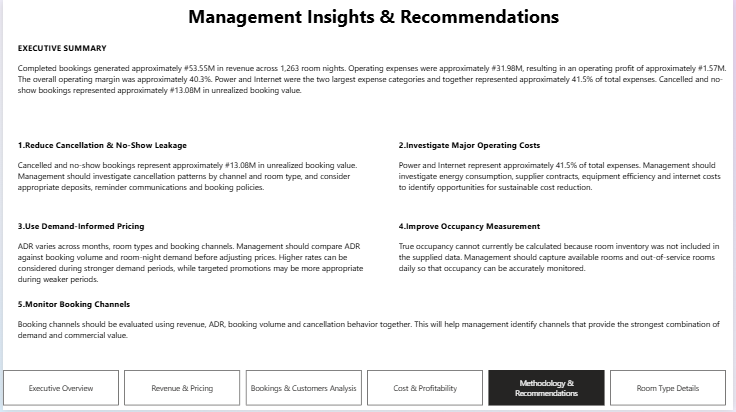

This screenshot's page, from the dashboard's own definition file:
{"tool":"powerbi","page":{"name":"Methodology & Recommendations","canvas":[1280,720],"ordinal":4},"visuals":[{"type":"textbox","box":[21.6,67.6,1258.1,125.7],"z":0},{"type":"textbox","box":[21.6,0,1258.1,56.8],"z":1000},{"type":"textbox","box":[21.6,237.8,656.8,121.6],"z":2000},{"type":"textbox","box":[689.2,237.8,590.5,121.6],"z":3000},{"type":"textbox","box":[21.6,381.1,656.8,123],"z":4000},{"type":"textbox","box":[689.2,381.1,590.5,123],"z":5000},{"type":"textbox","box":[21.6,517.6,1258.1,110.8],"z":6000},{"type":"pageNavigator","box":[0,648.6,1268.9,62.2],"z":7000}]}

Visuals, with their boxes in screenshot pixels (x1, y1, x2, y2), scaled from the page's 1280x720 canvas onto the 736x412 screenshot:
textbox: Rect(12, 39, 735, 111)
textbox: Rect(12, 0, 735, 33)
textbox: Rect(12, 136, 390, 206)
textbox: Rect(396, 136, 735, 206)
textbox: Rect(12, 218, 390, 288)
textbox: Rect(396, 218, 735, 288)
textbox: Rect(12, 296, 735, 360)
pageNavigator: Rect(0, 371, 730, 407)
